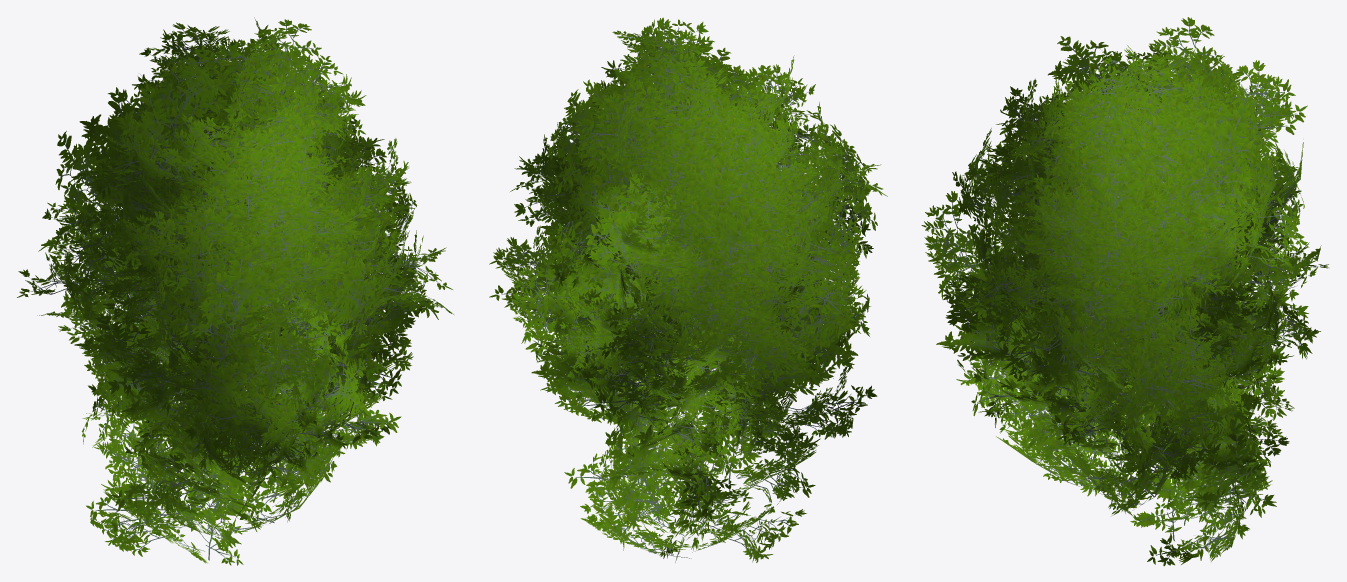
The picture shows the model from 3 angles, left to right: view 1: azimuth 30°, elevation 25°; view 2: azimuth 150°, elevation 25°; view 3: azimuth 270°, elevation 25°; orthographic projection. The views are drawn at different scales.
Visible parts, largest first — view 1: SM_BM_Ash_Canopy_03_LOD0; view 2: SM_BM_Ash_Canopy_03_LOD0; view 3: SM_BM_Ash_Canopy_03_LOD0.
Part boxes in pixels (bbox=[...]): SM_BM_Ash_Canopy_03_LOD0: bbox=[17, 17, 453, 565]; SM_BM_Ash_Canopy_03_LOD0: bbox=[489, 17, 887, 562]; SM_BM_Ash_Canopy_03_LOD0: bbox=[921, 17, 1328, 566].
Size of the model in its own units: 8.71 by 11.78 by 8.16.
Materials: 1 (1 with a texture image).
